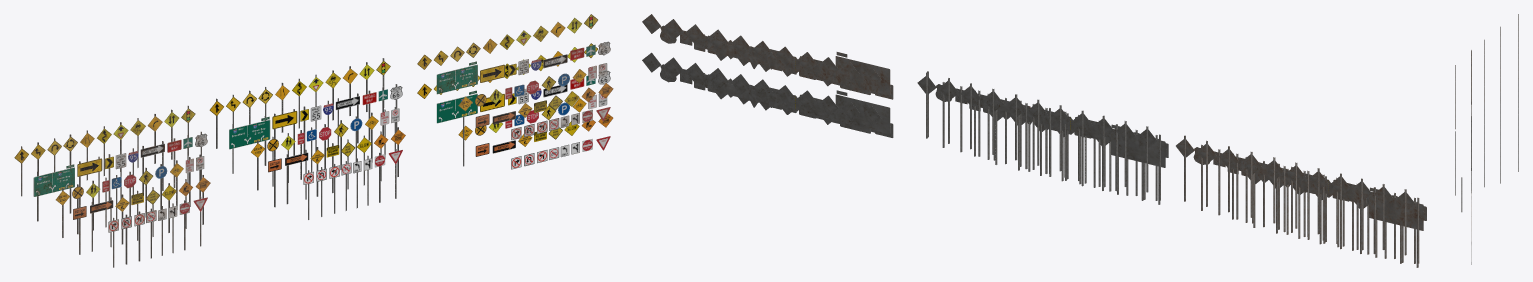
Rendered from road_signs.glb.
The picture shows the model from 3 angles, left to right: view 1: azimuth 30°, elevation 25°; view 2: azimuth 150°, elevation 25°; view 3: azimuth 270°, elevation 25°; orthographic projection. The views are drawn at different scales.
Parts seen in each view (by area): view 1: Cube.181_190, Cube.004_46, Cube.030_128, Cube.121_79, Cube.178_187, Cube.077_43, Cube.091_45, Cube.180_189; view 2: Cube.181_190, Cube.004_46, Cube.030_128, Cube.121_79, Cube.178_187, Cube.077_43; view 3: Cube.012_95.
Boxes of the visible parts, bbox=[...] form: Cube.181_190: bbox=[33, 163, 74, 221]; Cube.004_46: bbox=[229, 116, 270, 173]; Cube.030_128: bbox=[436, 64, 477, 94]; Cube.121_79: bbox=[436, 93, 477, 123]; Cube.178_187: bbox=[77, 156, 102, 204]; Cube.077_43: bbox=[272, 109, 297, 157]; Cube.091_45: bbox=[285, 149, 308, 204]; Cube.180_189: bbox=[90, 197, 113, 251]; Cube.181_190: bbox=[1369, 187, 1423, 263]; Cube.004_46: bbox=[1111, 124, 1165, 200]; Cube.030_128: bbox=[835, 56, 890, 95]; Cube.121_79: bbox=[835, 94, 890, 133]; Cube.178_187: bbox=[1333, 177, 1366, 250]; Cube.077_43: bbox=[1075, 115, 1107, 187]; Cube.012_95: bbox=[1461, 177, 1462, 212].
Bounding box in the file's own units: 140 × 23.36 × 18.82.
2 materials, 2 textured.
